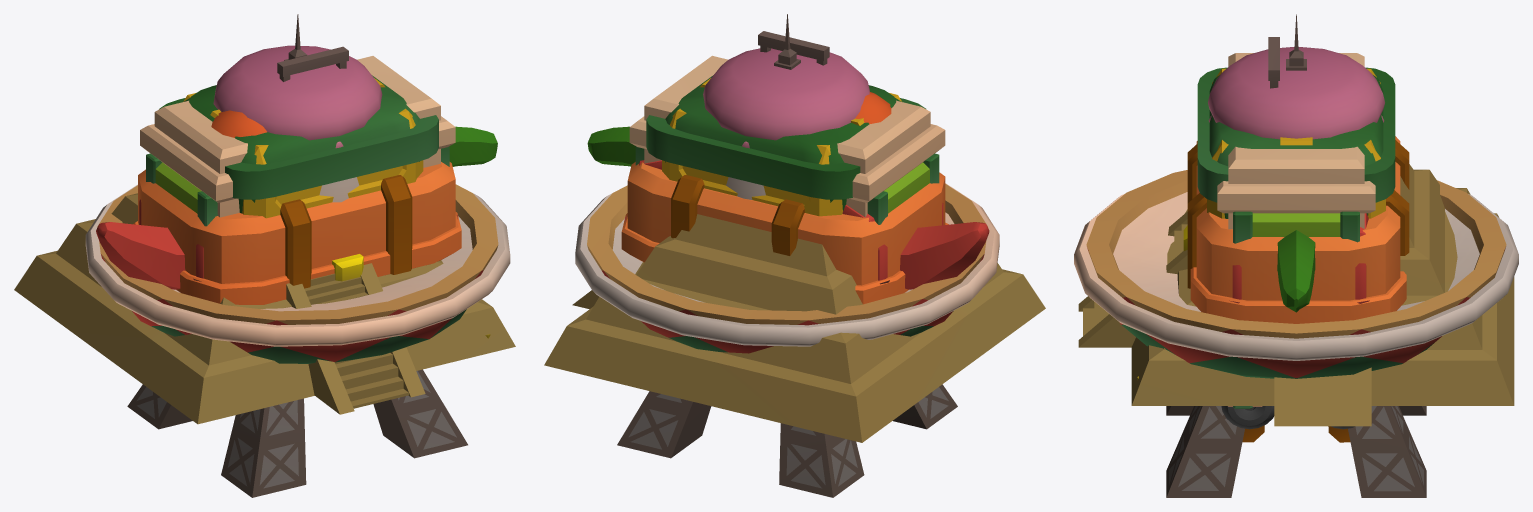
File: pivot_change_all.fbx
3 views of the same model, side by side, from view 1: azimuth 30°, elevation 25°; view 2: azimuth 150°, elevation 25°; view 3: azimuth 270°, elevation 25° (orthographic). The views are drawn at different scales.
Parts seen in each view (by area): view 1: ElCastillo_collection_v1, old_baggage_v1, coffee_france_v1, eifel_france_v1, Sombrero_collection_v1, trash_box_v1, macaron_france_v1, Arcdetriomphe_france_v1, biber_collection_v1, yellowmodern_baggage_v1, green_old_baggage_v1, marakas_collection_v1; view 2: ElCastillo_collection_v1, old_baggage_v1, trash_box_v1, coffee_france_v1, macaron_france_v1, eifel_france_v1, Sombrero_collection_v1, Arcdetriomphe_france_v1, biber_collection_v1, yellowmodern_baggage_v1, green_old_baggage_v1, marakas_collection_v1 (+1 smaller); view 3: ElCastillo_collection_v1, old_baggage_v1, coffee_france_v1, Sombrero_collection_v1, macaron_france_v1, eifel_france_v1, Arcdetriomphe_france_v1, trash_box_v1, green_old_baggage_v1, biber_collection_v1, yellowmodern_baggage_v1, red_baggage_v1.
Part boxes in pixels (x1=…): ElCastillo_collection_v1: x1=14, y1=193, x2=515, y2=424; old_baggage_v1: x1=133, y1=162, x2=461, y2=304; coffee_france_v1: x1=85, y1=177, x2=510, y2=346; eifel_france_v1: x1=127, y1=14, x2=467, y2=497; Sombrero_collection_v1: x1=97, y1=184, x2=498, y2=363; trash_box_v1: x1=159, y1=75, x2=438, y2=213; macaron_france_v1: x1=213, y1=45, x2=382, y2=148; Arcdetriomphe_france_v1: x1=140, y1=56, x2=455, y2=217; biber_collection_v1: x1=96, y1=126, x2=497, y2=289; yellowmodern_baggage_v1: x1=183, y1=46, x2=423, y2=218; green_old_baggage_v1: x1=146, y1=146, x2=449, y2=226; marakas_collection_v1: x1=211, y1=110, x2=266, y2=137; ElCastillo_collection_v1: x1=544, y1=214, x2=1045, y2=442; old_baggage_v1: x1=621, y1=162, x2=948, y2=304; trash_box_v1: x1=646, y1=75, x2=925, y2=210; coffee_france_v1: x1=575, y1=177, x2=999, y2=346; macaron_france_v1: x1=703, y1=48, x2=869, y2=148; eifel_france_v1: x1=617, y1=14, x2=957, y2=497; Sombrero_collection_v1: x1=587, y1=184, x2=987, y2=353; Arcdetriomphe_france_v1: x1=629, y1=55, x2=945, y2=217; biber_collection_v1: x1=587, y1=126, x2=989, y2=289; yellowmodern_baggage_v1: x1=662, y1=31, x2=901, y2=216; green_old_baggage_v1: x1=635, y1=146, x2=939, y2=224; marakas_collection_v1: x1=855, y1=92, x2=891, y2=124; ElCastillo_collection_v1: x1=1078, y1=164, x2=1514, y2=426; old_baggage_v1: x1=1183, y1=136, x2=1409, y2=323; coffee_france_v1: x1=1074, y1=192, x2=1518, y2=360; Sombrero_collection_v1: x1=1086, y1=170, x2=1506, y2=378; macaron_france_v1: x1=1208, y1=47, x2=1384, y2=139; eifel_france_v1: x1=1166, y1=14, x2=1426, y2=497; Arcdetriomphe_france_v1: x1=1217, y1=53, x2=1375, y2=406; trash_box_v1: x1=1197, y1=67, x2=1395, y2=429; green_old_baggage_v1: x1=1233, y1=211, x2=1359, y2=408; biber_collection_v1: x1=1277, y1=230, x2=1315, y2=312; yellowmodern_baggage_v1: x1=1207, y1=37, x2=1385, y2=442; red_baggage_v1: x1=1229, y1=213, x2=1369, y2=303.
Size of the model in its own units: 137 by 135 by 127.
Materials: 1 (1 with a texture image).
